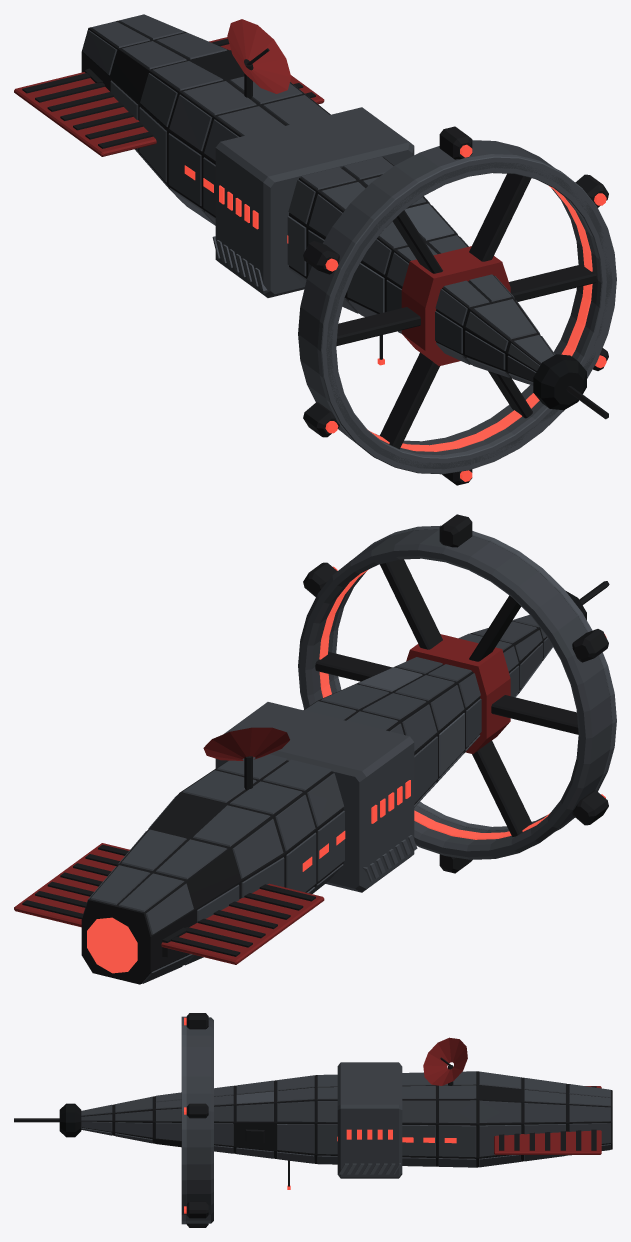
Rendered from jammer.glb.
The picture shows the model from 3 angles, top to bottom: view 1: azimuth 30°, elevation 25°; view 2: azimuth 150°, elevation 25°; view 3: azimuth 270°, elevation 25°; orthographic projection. The views are drawn at different scales.
Parts seen in each view (by area): view 1: primary, structure, accent, accent2, engineGlow, glass, windows; view 2: primary, structure, accent2, accent, engineGlow, windows; view 3: primary, structure, accent2, accent, glass, windows.
Part boxes in pixels (box(x1,y1,x2,y2)): primary: box(82, 14, 612, 469); structure: box(22, 20, 608, 485); accent: box(170, 154, 616, 474); accent2: box(14, 19, 510, 366); engineGlow: box(367, 186, 592, 451); glass: box(533, 354, 586, 410); windows: box(184, 144, 606, 481); primary: box(82, 529, 612, 984); structure: box(22, 514, 609, 984); accent2: box(14, 634, 510, 964); accent: box(307, 525, 616, 893); engineGlow: box(87, 569, 549, 973); windows: box(302, 566, 606, 871); primary: box(81, 1017, 610, 1223); structure: box(14, 1013, 612, 1227); accent2: box(423, 1037, 601, 1154); accent: box(181, 1016, 400, 1224); glass: box(59, 1103, 81, 1137); windows: box(184, 1017, 456, 1213).
Bounding box in the file's own units: 14.58 × 16.32 × 42.16.
